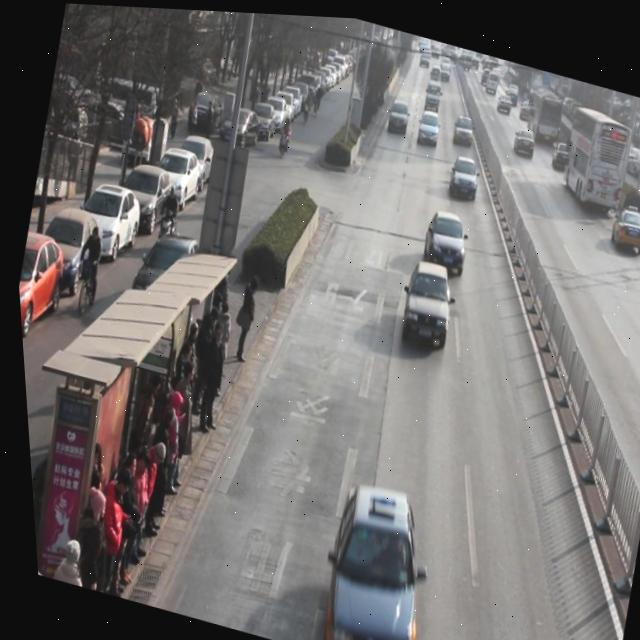car: (303, 473, 441, 640), (390, 252, 458, 346), (415, 200, 472, 273), (444, 147, 482, 198), (605, 196, 640, 248), (413, 101, 443, 143), (383, 91, 412, 130), (448, 106, 476, 143), (548, 131, 575, 166), (510, 119, 537, 151)
van: (552, 93, 639, 209)
